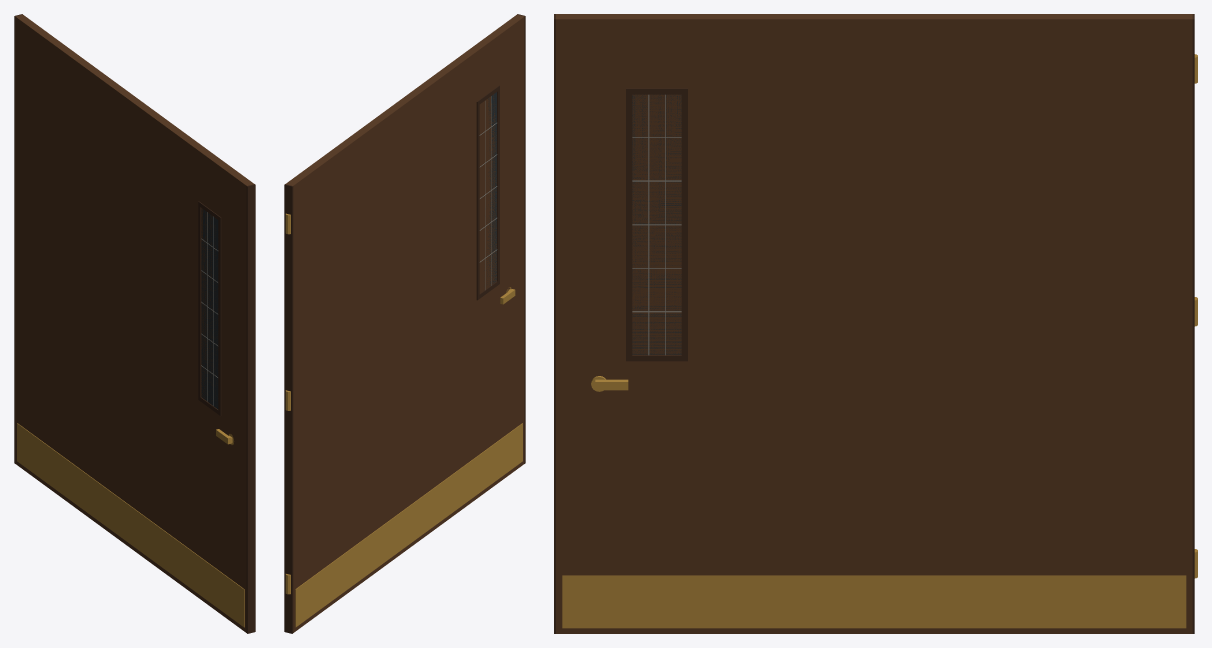
The model's file is SM_80s_RoomDoor_311.glb.
3 renders of one model, left to right at view 1: azimuth 30°, elevation 25°; view 2: azimuth 150°, elevation 25°; view 3: azimuth 270°, elevation 25°, orthographic. The views are drawn at different scales.
Visible parts, largest first — view 1: SM_80s_RoomDoor_311; view 2: SM_80s_RoomDoor_311; view 3: SM_80s_RoomDoor_311.
Part boxes in pixels (bbox=[...]): SM_80s_RoomDoor_311: bbox=[14, 14, 255, 633]; SM_80s_RoomDoor_311: bbox=[284, 14, 525, 633]; SM_80s_RoomDoor_311: bbox=[554, 14, 1197, 633].
Bounding box in the file's own units: 0.134 × 3.29 × 3.13.
